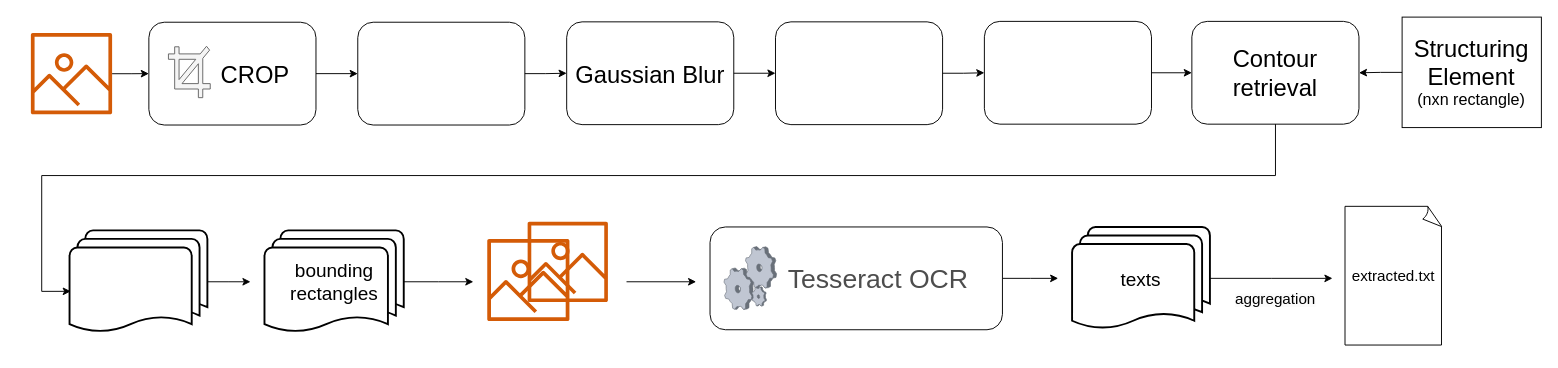
Some shapes in this 1558 by 368 pixel diagram are drawn without their labels. The centre of each missing label's shape, as x and y in pixels:
contours: the point at 138,281
Dilation: the point at 1067,72
Gray Scale: the point at 441,73
OTSU binarization: the point at 859,73
